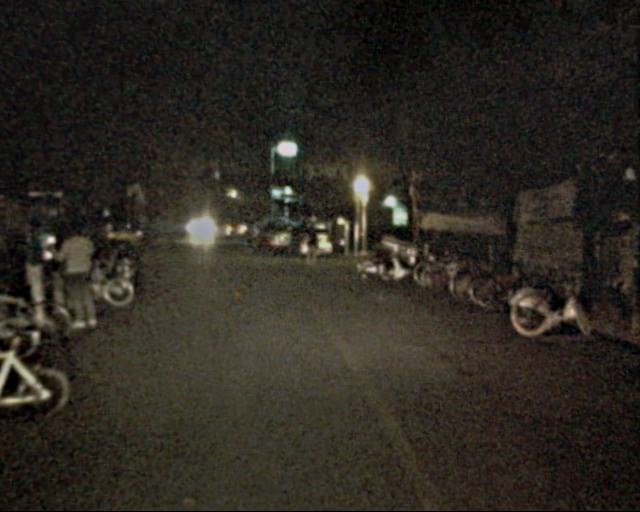person: (56, 217, 105, 330), (303, 220, 322, 266), (241, 223, 255, 258)
